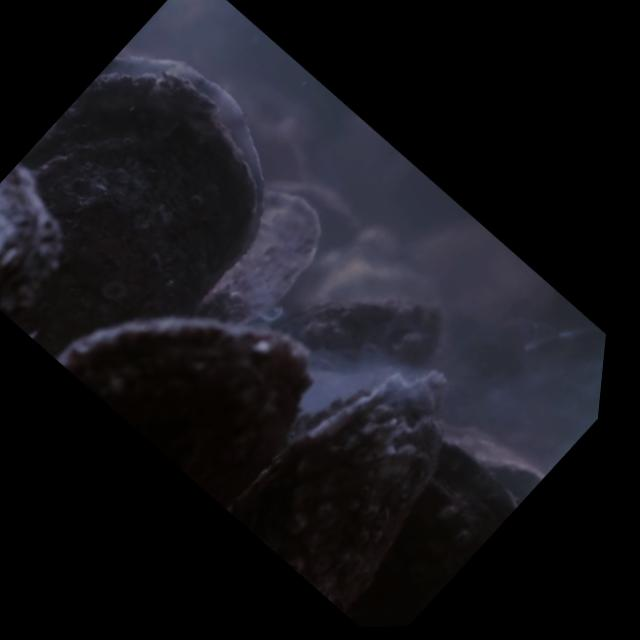Oyster-Closed: (24, 51, 271, 351), (230, 364, 448, 611)
Oyster-Indeterminate: (59, 309, 316, 507), (354, 437, 516, 627), (204, 187, 327, 318), (275, 290, 450, 369), (0, 162, 70, 327), (444, 419, 545, 495)
